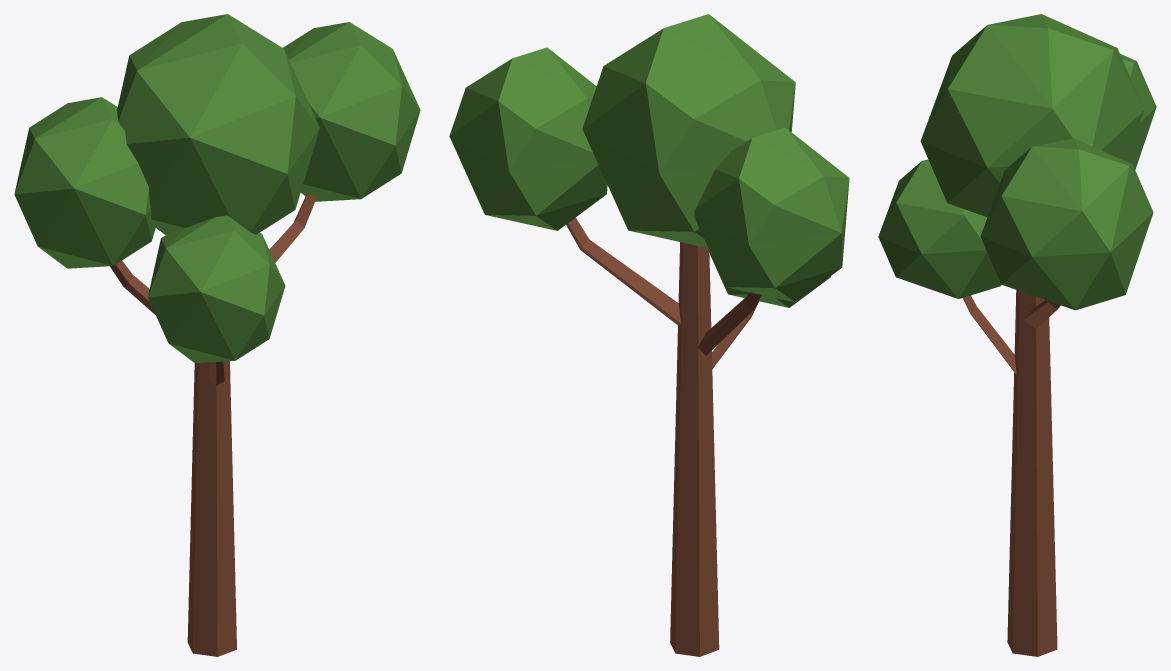
File: Tree_35_summer_vc.fbx
3 renders of one model, left to right at view 1: azimuth 30°, elevation 25°; view 2: azimuth 150°, elevation 25°; view 3: azimuth 270°, elevation 25°, orthographic.
Visible parts, largest first — view 1: Tree_35_summer_vc; view 2: Tree_35_summer_vc; view 3: Tree_35_summer_vc.
Part boxes in pixels (x1=…): Tree_35_summer_vc: x1=14, y1=14, x2=420, y2=656; Tree_35_summer_vc: x1=449, y1=14, x2=849, y2=656; Tree_35_summer_vc: x1=878, y1=14, x2=1156, y2=656.
Bounding box in the file's own units: 10.99 × 17.12 × 6.87.
